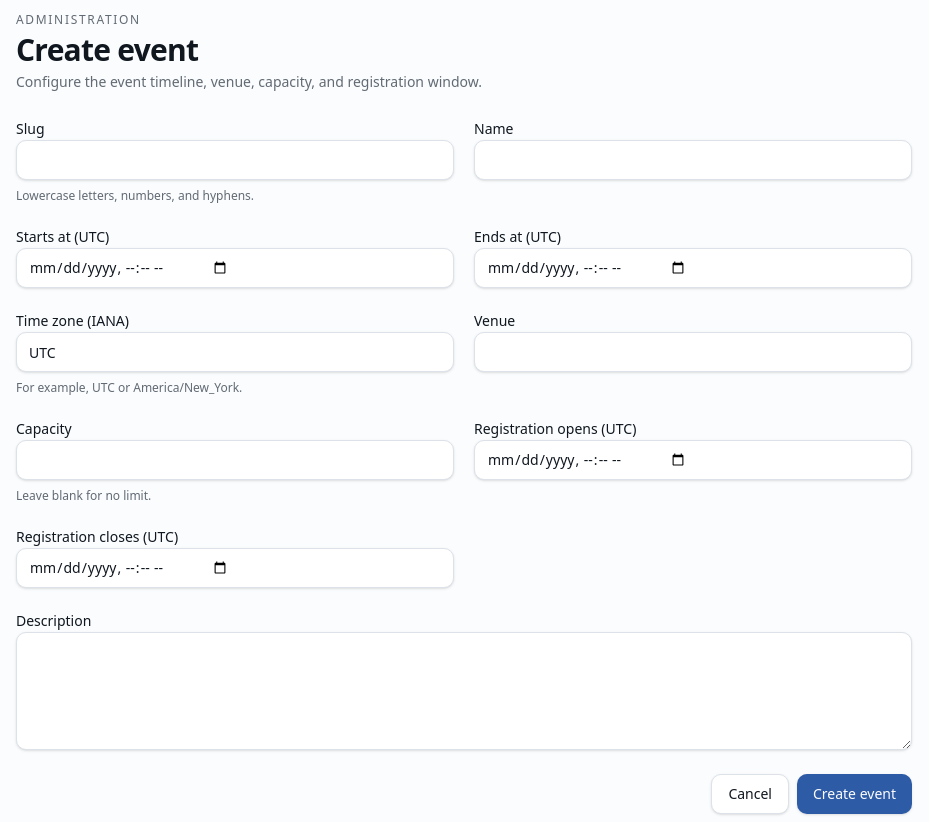
it: event management pages › shows backend validation errors on the event form
Type "summit-2026" into the field labelled "Slug" at (235, 160), box [16,140,454,180]
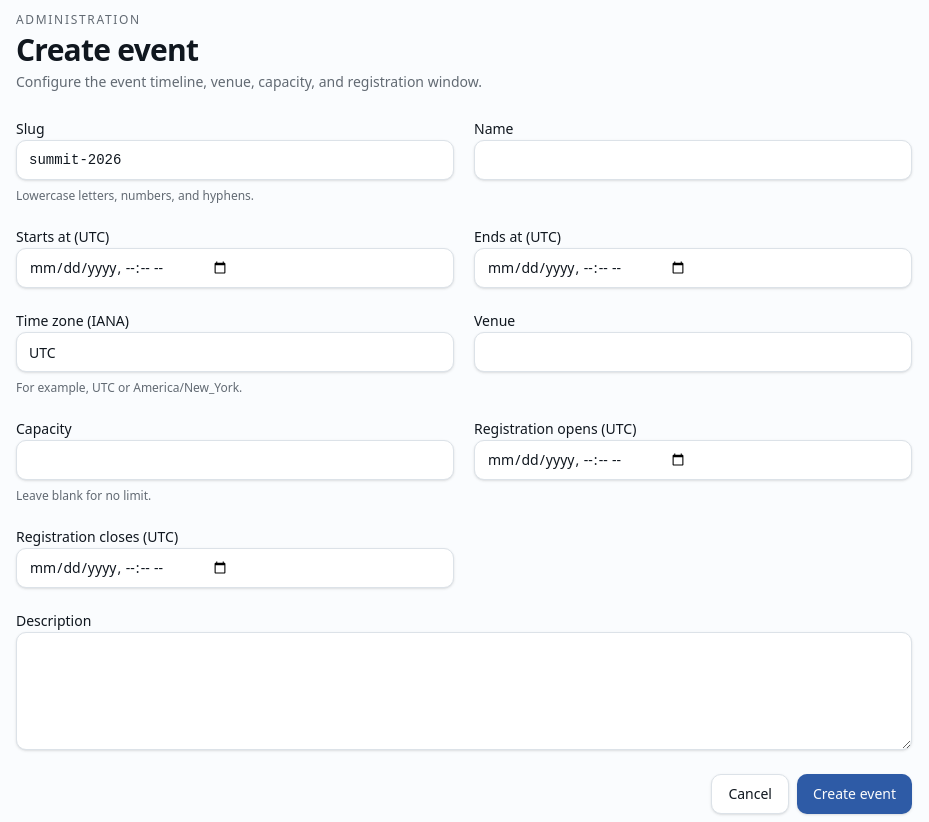
Type "Summit 2026" into the field labelled "Name" at (693, 160), box [474,140,912,180]
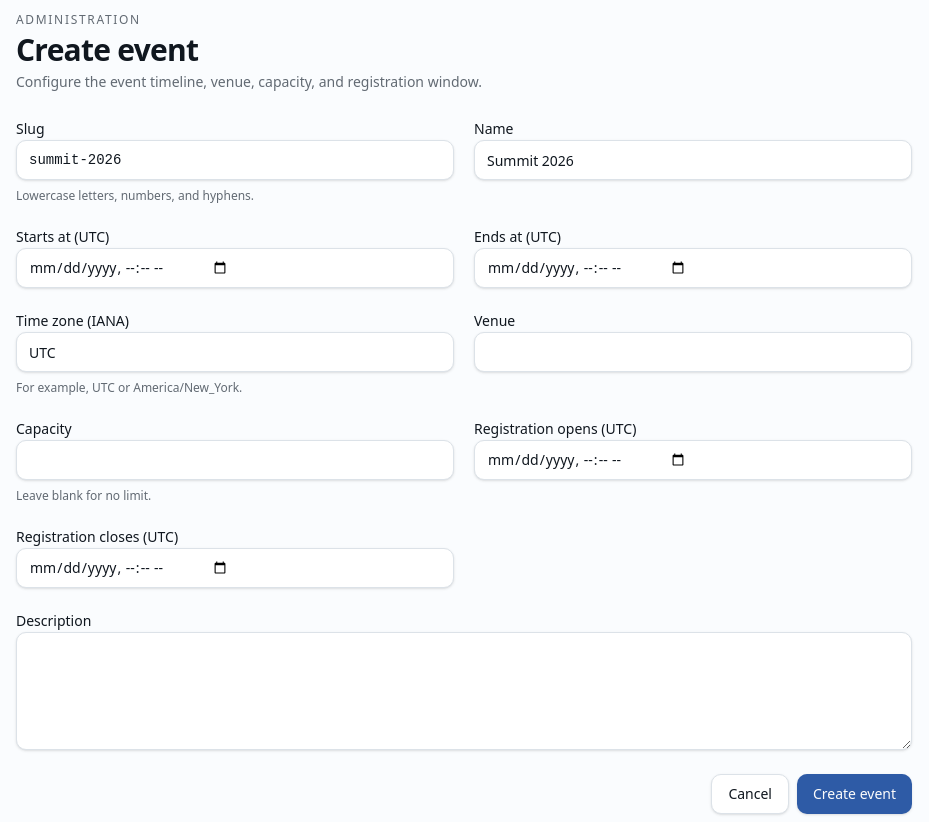
Type "2026-09-20T09:00" into the field labelled "Starts at (UTC)" at (235, 268), box [16,248,454,288]
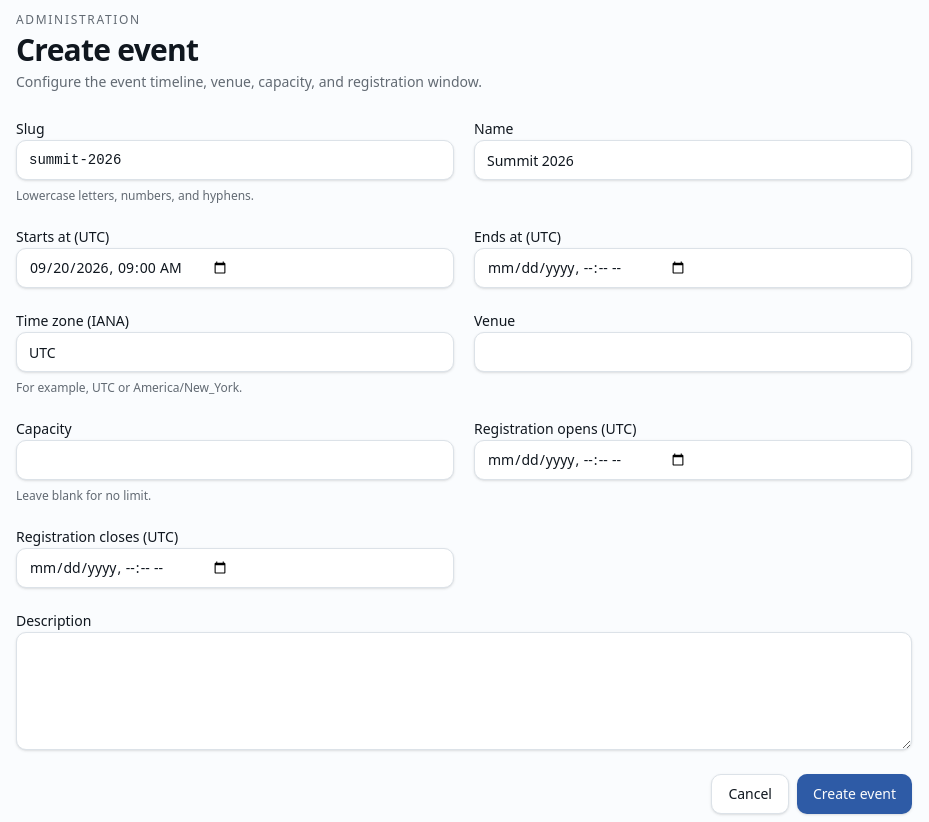
Type "2026-09-20T17:00" into the field labelled "Ends at (UTC)" at (693, 268), box [474,248,912,288]
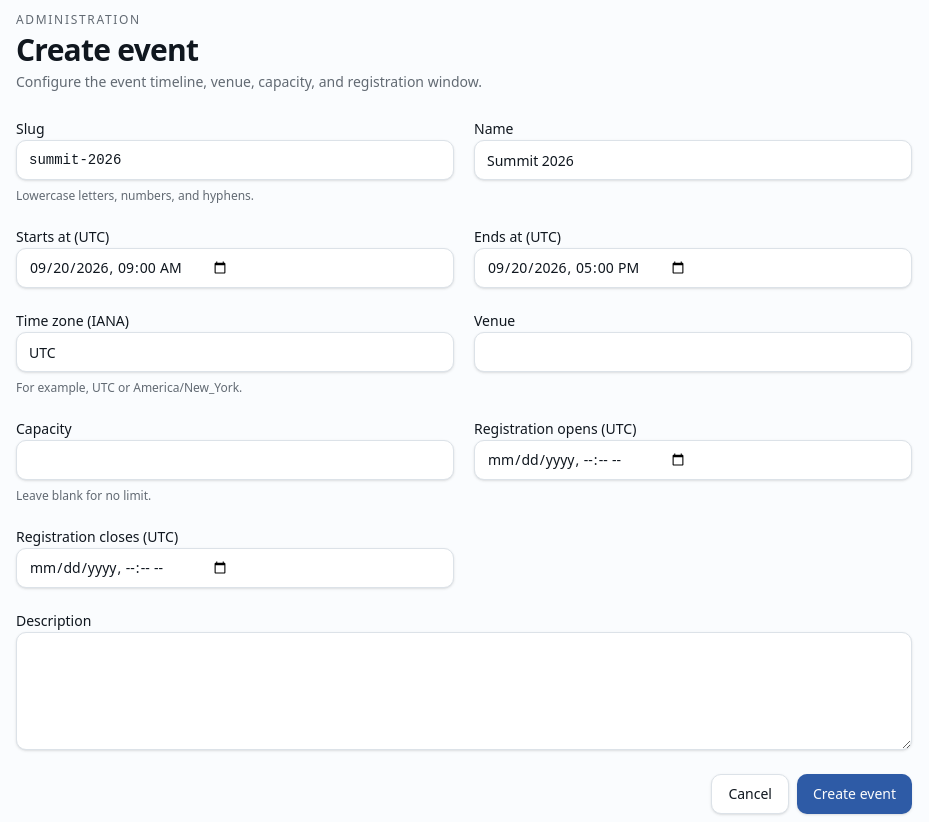
Click the button "Create event" at (854, 794), box [797,774,912,814]
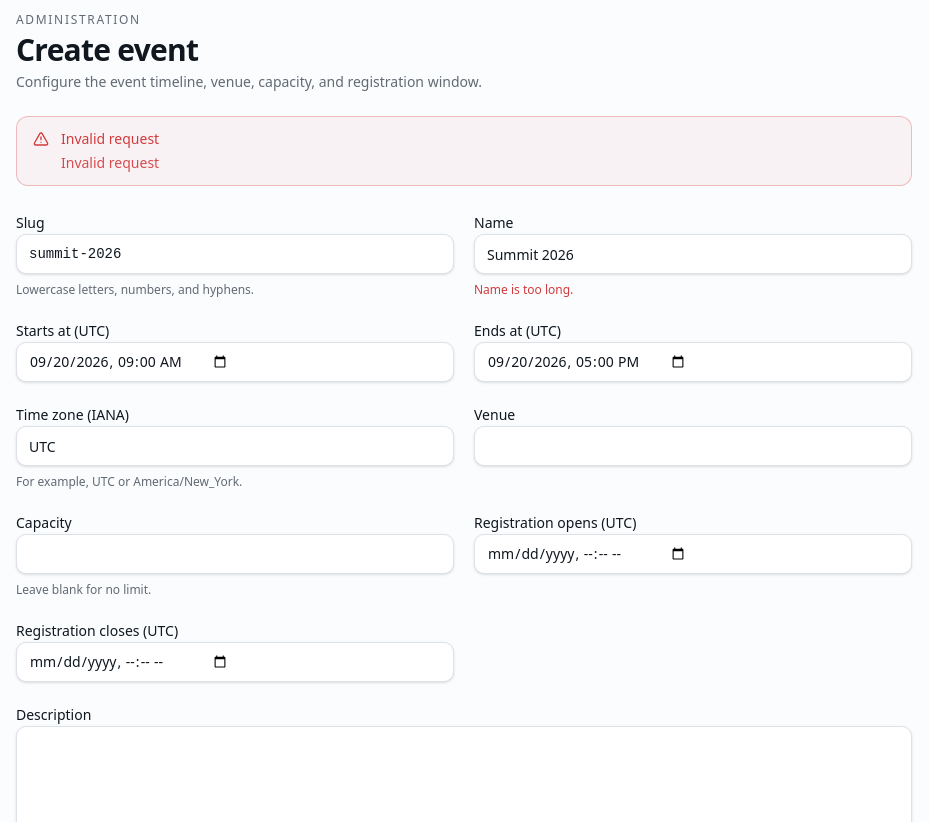
Expected: the text "Name is too long." is shown, [474,281,573,298]
Expected: the 1st text "Invalid request" is shown, [61,129,159,148]
